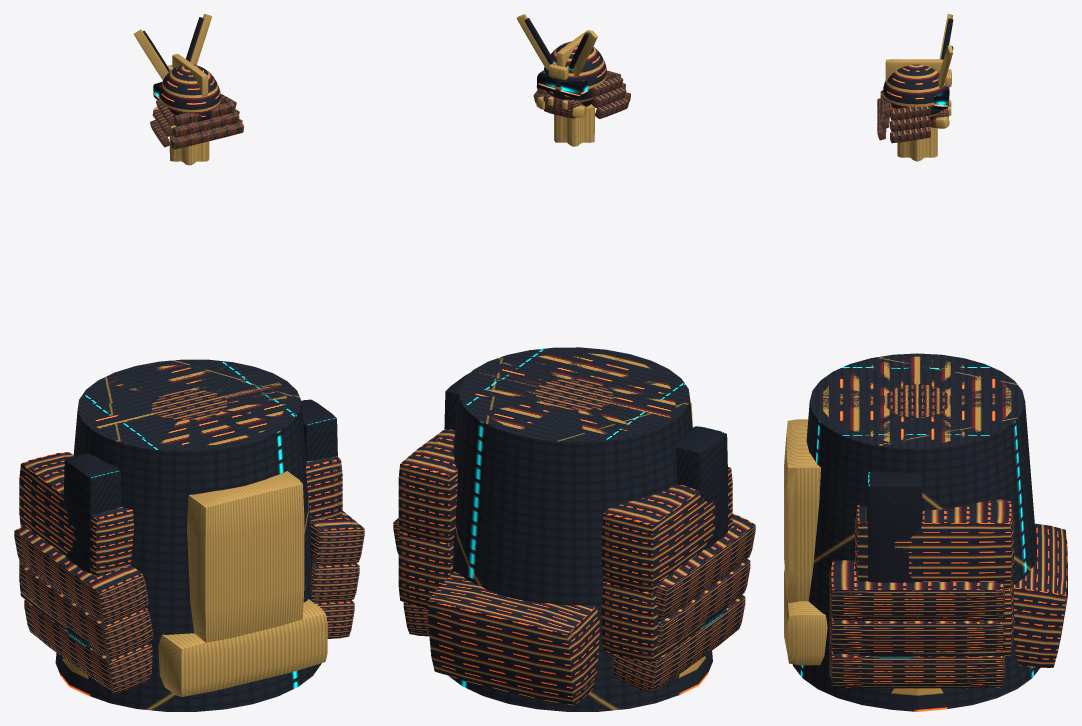
The model's file is player_kit_eclipse_ronin_pcvr.glb.
The picture shows the model from 3 angles, left to right: view 1: azimuth 30°, elevation 25°; view 2: azimuth 150°, elevation 25°; view 3: azimuth 270°, elevation 25°; orthographic projection. The views are drawn at different scales.
Visible parts, largest first — view 1: LThigh, LUpperArm, LShin, LForearm, AvatarHead, RUpperArm, RThigh, Jacket, RForearm; view 2: LThigh, LShin, LUpperArm, RThigh, LForearm, AvatarHead, Jacket, RUpperArm, RForearm; view 3: LThigh, RUpperArm, LShin, RThigh, LForearm, AvatarHead, RForearm, LUpperArm, Jacket.
Part boxes in pixels (x1,y1,x2,y2): LThigh: [19, 359, 321, 711]; LUpperArm: [14, 360, 296, 693]; LShin: [91, 364, 304, 642]; LForearm: [60, 364, 327, 696]; AvatarHead: [133, 14, 244, 165]; RUpperArm: [310, 511, 364, 638]; RThigh: [306, 456, 342, 521]; Jacket: [151, 390, 227, 420]; RForearm: [301, 399, 337, 461]; LThigh: [449, 347, 732, 711]; LShin: [427, 353, 692, 705]; LUpperArm: [461, 348, 755, 692]; RThigh: [398, 429, 457, 608]; LForearm: [486, 353, 727, 695]; AvatarHead: [516, 14, 630, 146]; Jacket: [535, 379, 613, 410]; RUpperArm: [393, 518, 429, 636]; RForearm: [444, 373, 469, 429]; LThigh: [792, 353, 1039, 708]; RUpperArm: [829, 560, 1005, 688]; LShin: [784, 356, 1067, 667]; RThigh: [855, 499, 1013, 656]; LForearm: [784, 357, 1012, 711]; AvatarHead: [877, 14, 953, 161]; RForearm: [866, 471, 922, 658]; LUpperArm: [809, 355, 1024, 447]; Jacket: [884, 384, 950, 417].
Bounding box in the file's own units: 1.09 × 2.43 × 1.
Materials: 1 (1 with a texture image).
